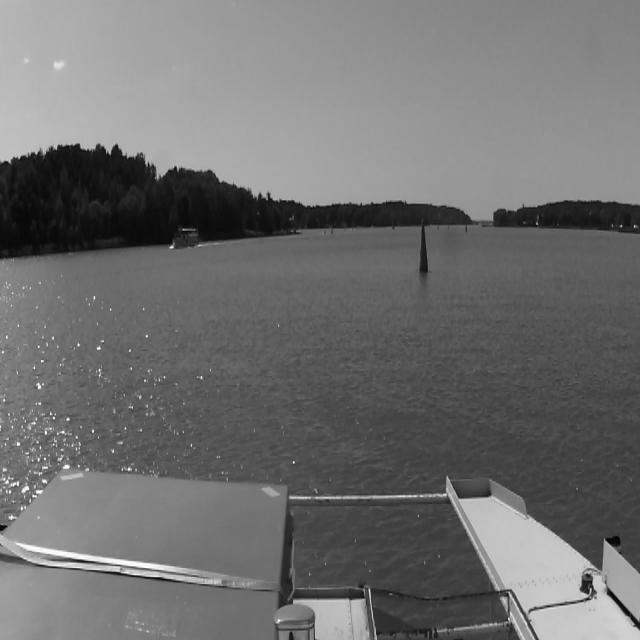buoy: (419, 220, 428, 272)
ship: (172, 228, 200, 248)
